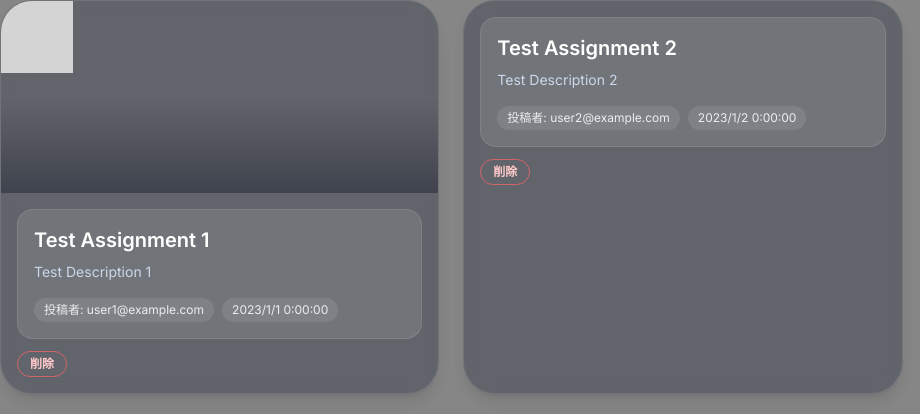
Test: AssignmentList › 削除機能 › should refresh assignments after successful deletion
Check: the heading "Test Assignment 1" is shown, box [34,228,210,252]
Check: the heading "Test Assignment 2" is shown, box [497,36,677,60]
Click the 2nd button "削除". click: (42, 364)
box: [17,351,67,377]
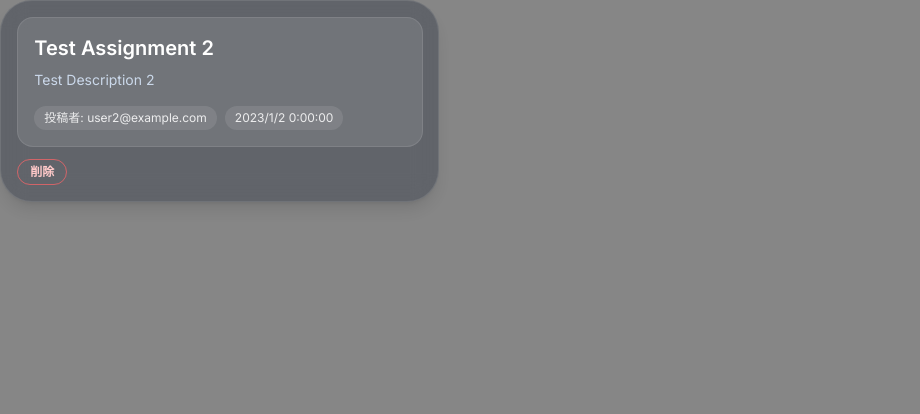
Check: the heading "Test Assignment 2" is shown, box [34,36,214,60]
Check: the button "Test Assignment 1" is gone
